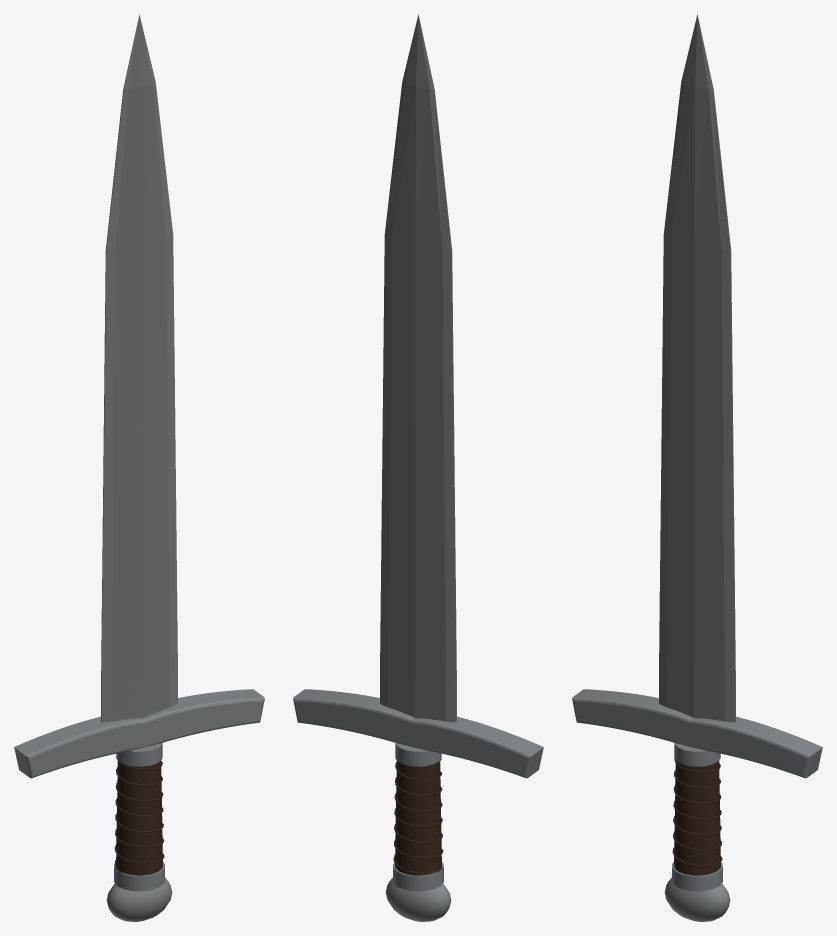
Rendered from corealm_sword_2.glb.
3 views of the same model, side by side, from view 1: azimuth 30°, elevation 25°; view 2: azimuth 150°, elevation 25°; view 3: azimuth 330°, elevation 25° (orthographic).
Visible parts, largest first — view 1: corealm-weapon-blade, corealm-weapon-metal, corealm-weapon-leather; view 2: corealm-weapon-blade, corealm-weapon-metal, corealm-weapon-leather; view 3: corealm-weapon-blade, corealm-weapon-metal, corealm-weapon-leather.
Boxes of the visible parts, x1,y1,x2,y2 form: corealm-weapon-blade: [101, 14, 177, 722]; corealm-weapon-metal: [14, 689, 264, 921]; corealm-weapon-leather: [114, 759, 164, 875]; corealm-weapon-blade: [380, 14, 456, 722]; corealm-weapon-metal: [293, 689, 543, 921]; corealm-weapon-leather: [393, 752, 443, 875]; corealm-weapon-blade: [659, 14, 735, 722]; corealm-weapon-metal: [572, 689, 822, 921]; corealm-weapon-leather: [672, 758, 722, 881].
Size of the model in its own units: 0.301 by 1.09 by 0.056.
3 materials, 1 textured.
